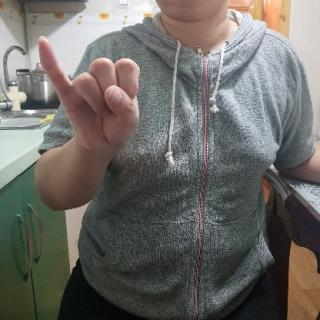MEEM: (34, 34, 145, 157)
